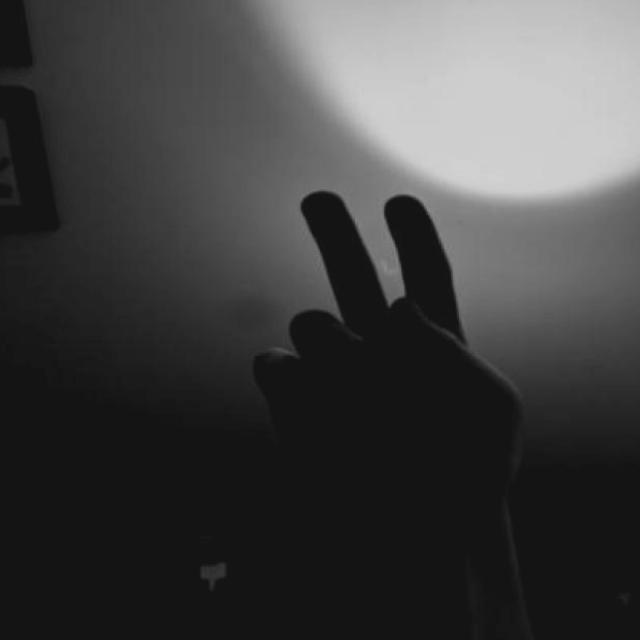K: (244, 170, 556, 584)
